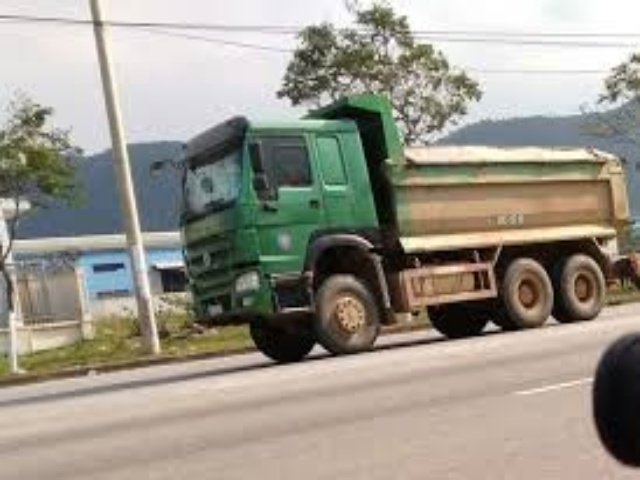Xe_tai_ben: (145, 87, 602, 365)
